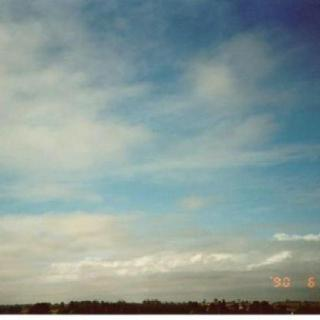Stratocumulus: (0, 7, 320, 301)
